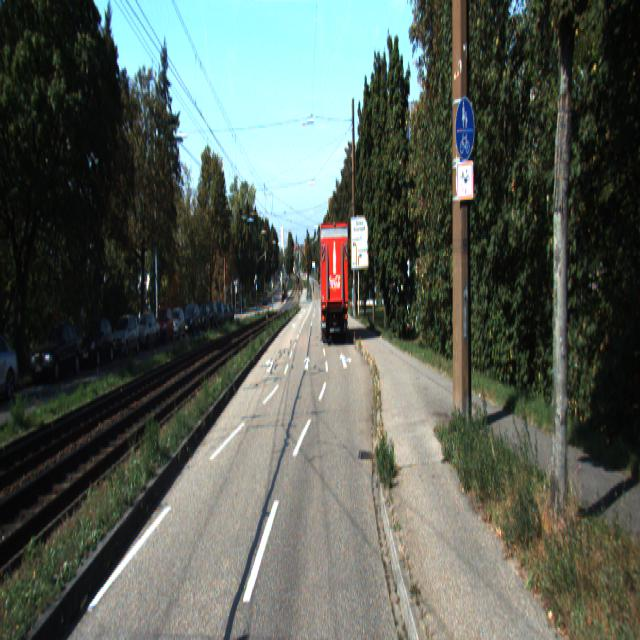Car: (319, 222, 350, 348), (30, 319, 85, 386), (79, 317, 115, 371), (0, 329, 23, 406), (110, 314, 141, 358), (131, 314, 160, 353), (154, 307, 175, 347), (168, 309, 185, 341)
